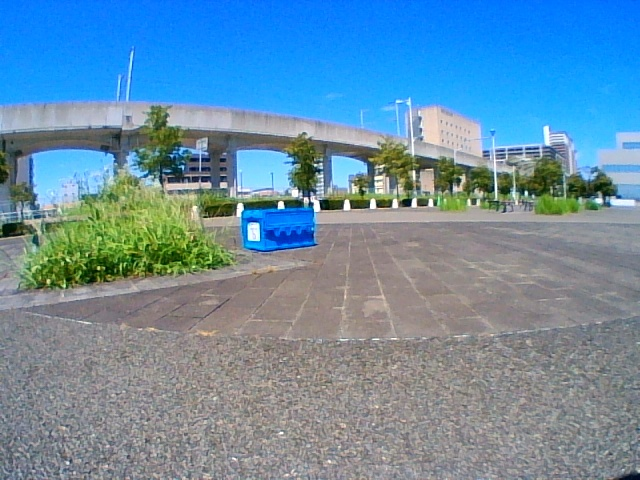blue_box: (243, 210, 315, 252)
tag_b: (248, 222, 260, 240)
